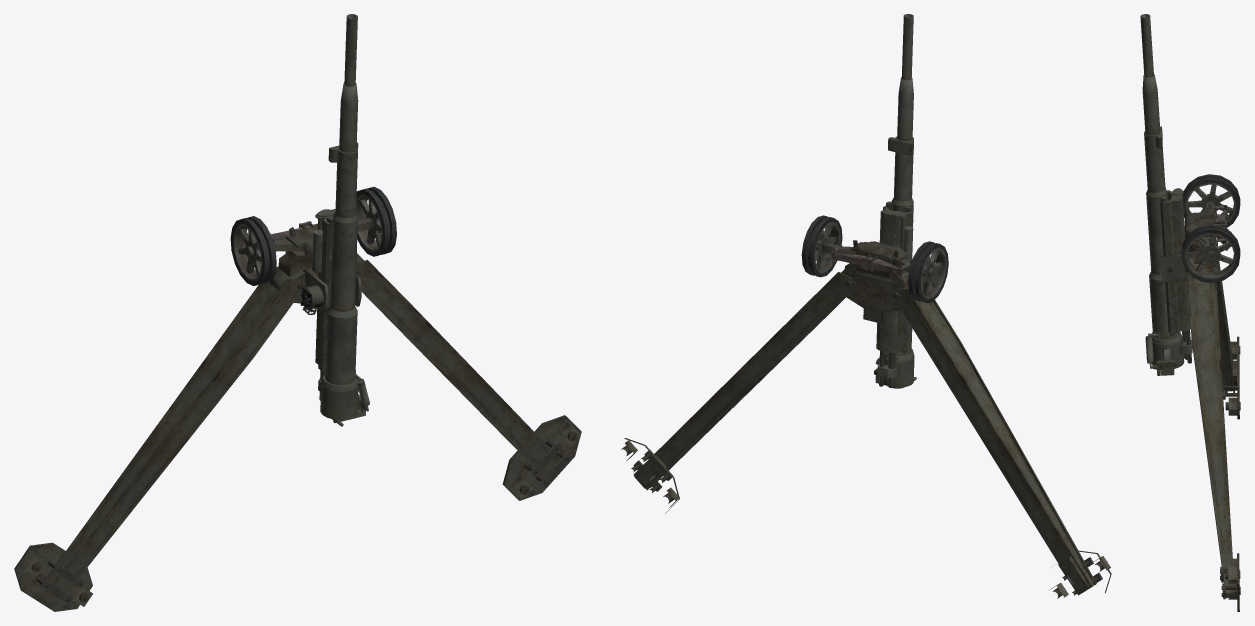
Rendered from german_artillery_155gpf_d.glb.
3 renders of one model, left to right at view 1: azimuth 30°, elevation 25°; view 2: azimuth 150°, elevation 25°; view 3: azimuth 270°, elevation 25°, orthographic. The views are drawn at different scales.
Size of the model in its own units: 563 by 549 by 100.
4 materials, 4 textured.
